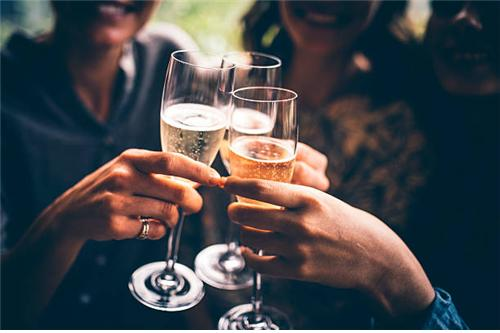alcohol: (126, 49, 234, 315), (197, 50, 285, 290), (225, 83, 297, 330)
